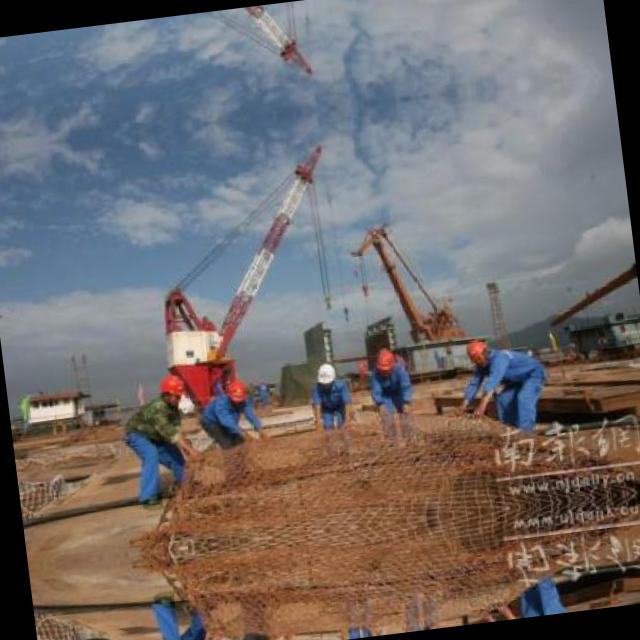helmet: (152, 371, 192, 411), (460, 334, 496, 370), (220, 378, 248, 407), (312, 361, 338, 390), (372, 346, 396, 377)
